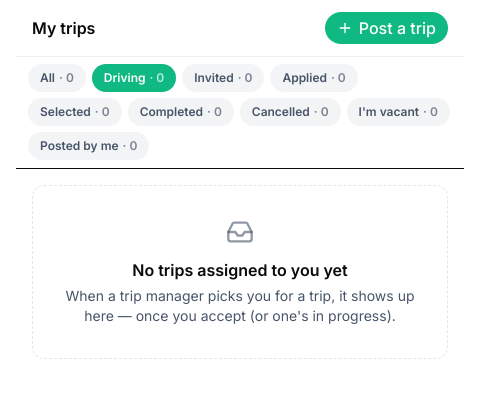
Test: DriverActivityPage › empty states — no assigned trips; no applications (with a Browse CTA)
Check: the text "No trips assigned to you yet" is shown, box [132,260,348,280]
Step 1. Click the button "Applied · 0" → coordinates (314, 78), box [270,64,358,92]
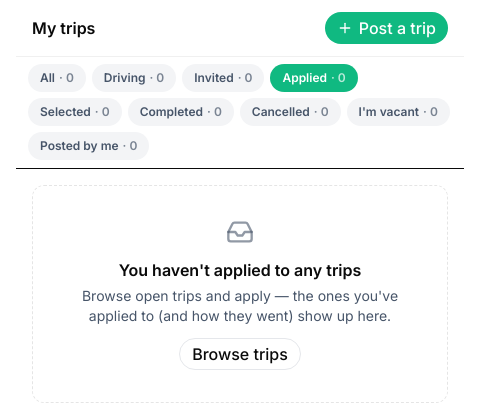
Check: the text "You haven't applied to any trips" is shown, box [119,260,361,280]
